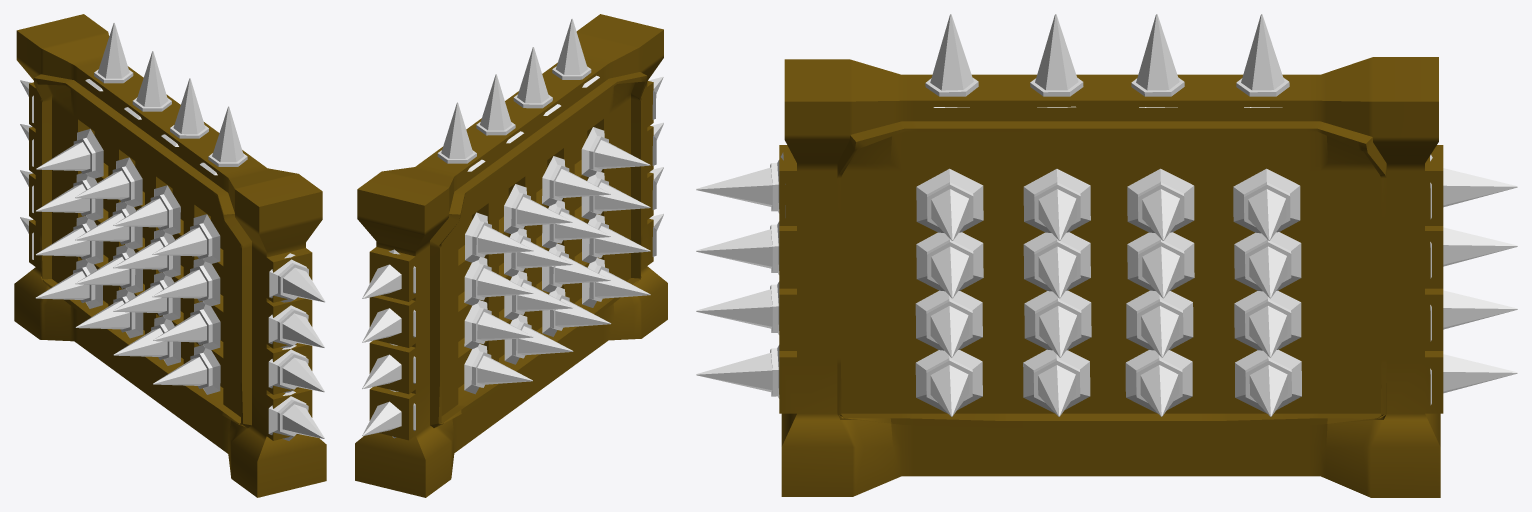
The model's file is spikewall01.fbx.
3 views of the same model, side by side, from view 1: azimuth 30°, elevation 25°; view 2: azimuth 150°, elevation 25°; view 3: azimuth 270°, elevation 25° (orthographic). The views are drawn at different scales.
Parts seen in each view (by area): view 1: polySurface399; view 2: polySurface399; view 3: polySurface399.
Boxes of the visible parts, left/top/right/bottom form: polySurface399: left=14, top=14, right=326, bottom=497; polySurface399: left=355, top=14, right=667, bottom=497; polySurface399: left=696, top=14, right=1517, bottom=497.
Size of the model in its own units: 2.98 by 6.13 by 9.93.
